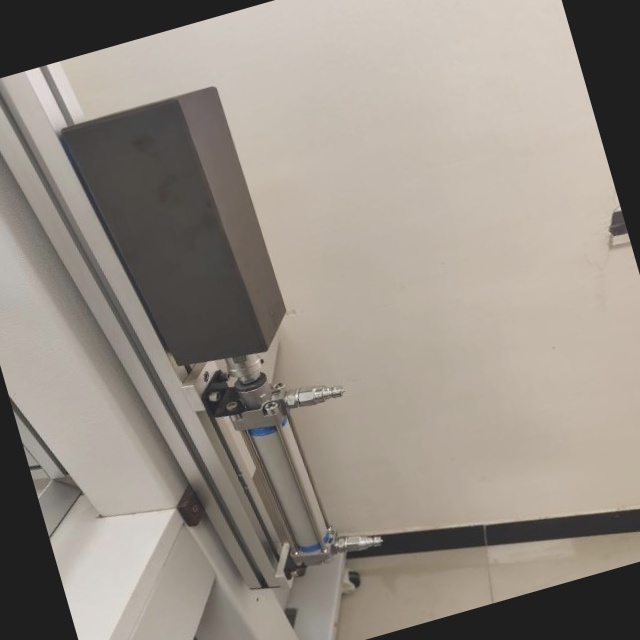load: (41, 67, 398, 616)
